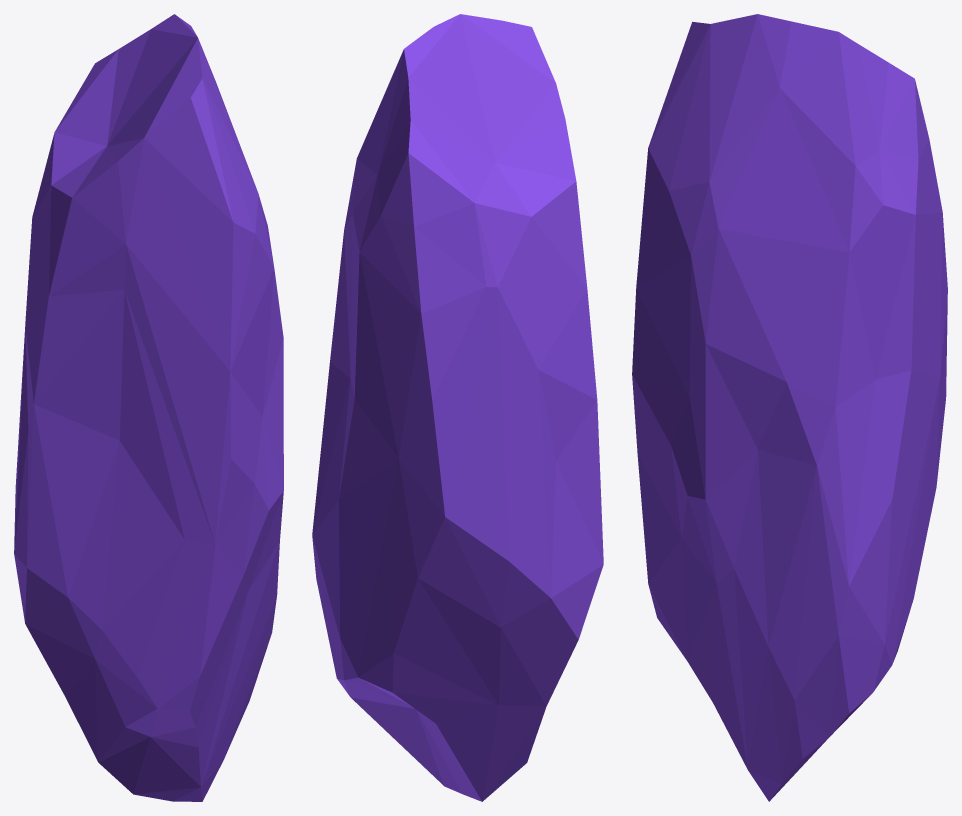
Rendered from Egg.fbx.
3 renders of one model, left to right at view 1: azimuth 30°, elevation 25°; view 2: azimuth 150°, elevation 25°; view 3: azimuth 270°, elevation 25°, orthographic.
Visible parts, largest first — view 1: Cube.007; view 2: Cube.007; view 3: Cube.007.
Part boxes in pixels (box(x1,y1,x2,y2)): Cube.007: box(14, 14, 283, 801); Cube.007: box(312, 14, 603, 801); Cube.007: box(632, 14, 947, 801).
Bounding box in the file's own units: 74.61 × 210 × 76.88.
